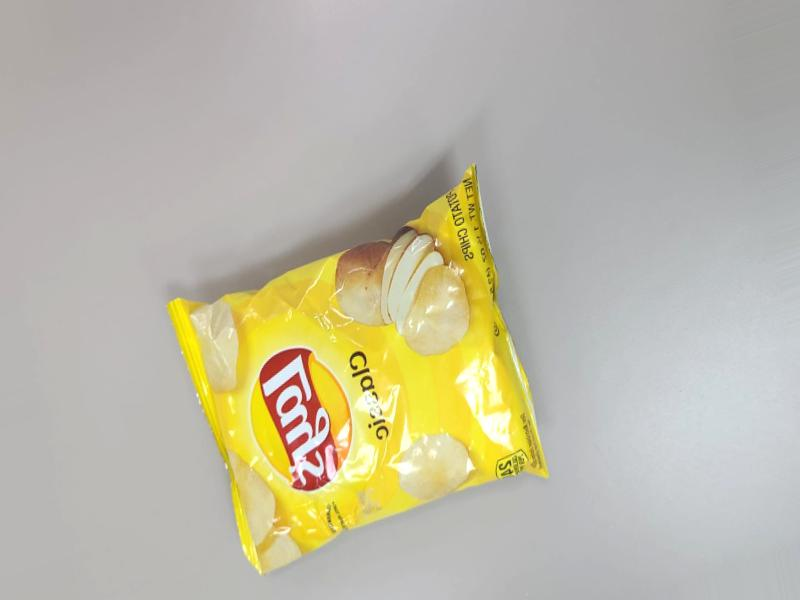lays: (154, 146, 553, 600)
